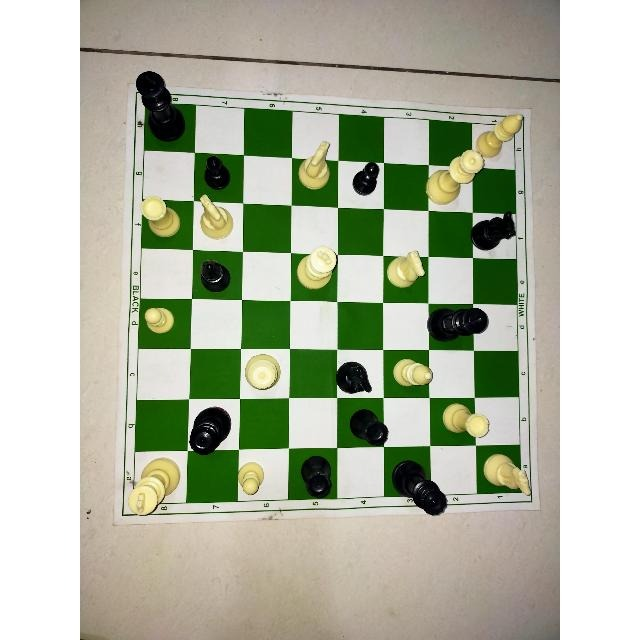black-bishop: (197, 258, 233, 298)
black-king: (133, 71, 189, 143), (423, 306, 492, 344)
black-knight: (467, 209, 519, 252), (333, 358, 379, 397)
black-pawn: (349, 158, 386, 199), (201, 154, 237, 191)
black-queen: (387, 458, 451, 518), (183, 399, 234, 456)
black-rook: (348, 405, 394, 448), (297, 453, 337, 500)
white-bishop: (473, 107, 529, 158), (390, 354, 437, 394)
white-king: (127, 455, 179, 519), (289, 247, 340, 297)
white-knight: (482, 450, 536, 502), (293, 140, 336, 192), (193, 190, 236, 241), (385, 246, 427, 293)
white-pawn: (234, 455, 268, 497), (142, 300, 178, 339)
white-queen: (423, 149, 489, 203), (242, 350, 284, 393)
white-rook: (138, 194, 185, 242), (437, 400, 492, 441)
